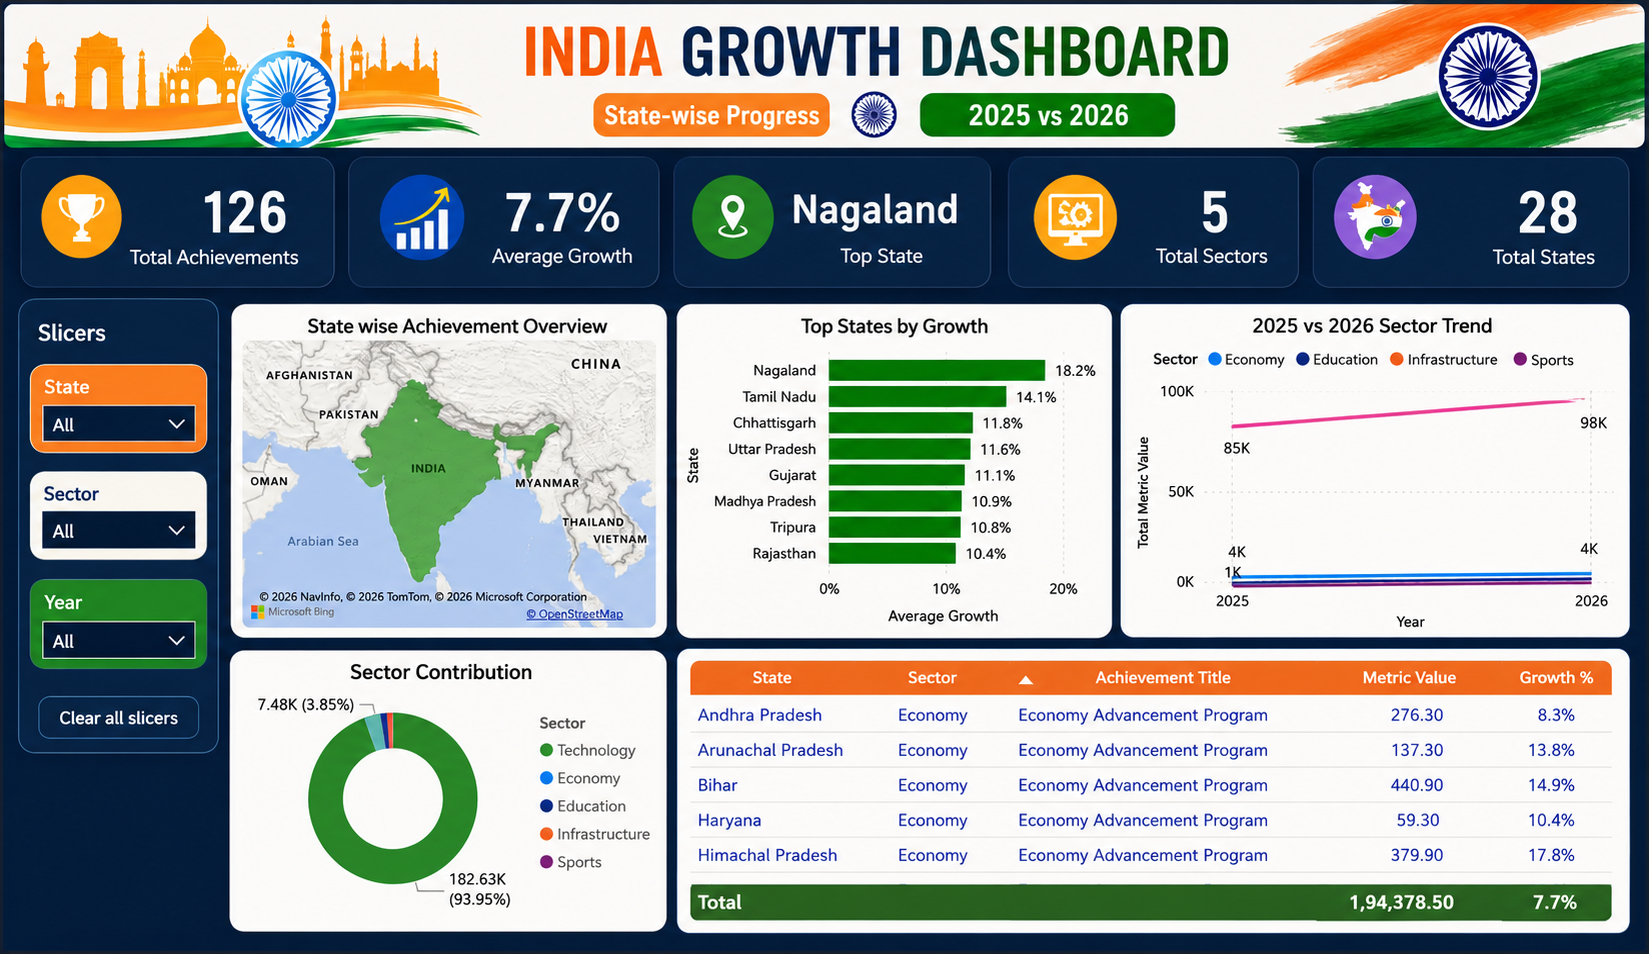

This screenshot's page, from the dashboard's own definition file:
{"tool":"powerbi","page":{"name":"Page 1","canvas":[1280,720],"ordinal":0},"visuals":[{"type":"cardVisual","fields":{"Data":["India Growth.Total Achievements"]},"box":[4.3,93.5,249.4,119.1],"z":0,"group":"g4"},{"type":"shape","title":"Slicers","box":[1.4,214,168.7,365.7],"z":0},{"type":"cardVisual","fields":{"Data":["India Growth.Top State"]},"box":[520.2,92.1,249.4,119.1],"z":1000,"group":"g6"},{"type":"cardVisual","fields":{"Data":["India Growth.Total States"]},"box":[1040.3,93.5,239.5,119.1],"z":1000},{"type":"shape","box":[22.1,119,71,63.8],"z":1000,"group":"g11"},{"type":"shape","box":[523,119,63.8,56.7],"z":1000,"group":"g13"},{"type":"shape","box":[815,120.5,63.6,56.7],"z":1000,"group":"g2"},{"type":"shape","box":[287.7,120.9,66.6,63.8],"z":1000,"group":"g3"},{"type":"shape","box":[1050.2,121.2,63.6,56.7],"z":1000,"group":"g1"},{"type":"cardVisual","fields":{"Data":["India Growth.Total Sectors"]},"box":[779.5,92.1,252.3,119.1],"z":2000},{"type":"shape","box":[0,0,1279.8,89.3],"z":3000},{"type":"shape","box":[592.6,45.1,143.6,35.8],"z":4000},{"type":"group","id":"g1","title":"Group 1","box":[1050.2,121.2,63.9,56.7],"z":4000,"group":"g8"},{"type":"shape","box":[423.8,45.4,189.9,35.4],"z":5000},{"type":"shape","box":[715.8,45,190,35.8],"z":6000},{"type":"cardVisual","fields":{"Data":["India Growth.Average Growth"]},"box":[259.4,93.5,250,120],"z":6000,"group":"g5"},{"type":"group","id":"g2","title":"Group 1","box":[815,120.5,63.9,56.7],"z":6000,"group":"g7"},{"type":"textbox","box":[408.3,45,237,35.8],"z":7000,"group":"g10"},{"type":"slicer","fields":{"Values":["India Growth.State"]},"box":[22.7,276.4,131.8,60.9],"z":7000},{"type":"textbox","title":"INDIA ","box":[393.3,0,148.1,44.5],"z":8000,"group":"g9"},{"type":"group","id":"g3","title":"Group 1","box":[287.7,120.9,68,63.8],"z":8000,"group":"g12"},{"type":"slicer","fields":{"Values":["India Growth.Sector"]},"box":[21.3,354.3,131.8,60.9],"z":8000},{"type":"slicer","fields":{"Values":["India Growth.Year"]},"box":[22.7,433.7,131.8,60.9],"z":9000},{"type":"filledMap","title":"State wise Achievement Overview","fields":{"Category":["India Growth.State"]},"box":[168.7,225.4,327.4,256.5],"z":10000},{"type":"clusteredBarChart","title":"Top 10 States by Growth","fields":{"Category":["India Growth.State"],"Y":["India Growth.Average Growth"]},"box":[508.8,225.4,372.8,256.5],"z":11000},{"type":"textbox","title":"GROWTH","box":[533.6,0,169.6,44.5],"z":12000,"group":"g9"},{"type":"lineChart","title":"2025 vs 2026 Sector Trend","fields":{"Category":["India Growth.Year"],"Y":["India Growth.Total Metric Value"],"Series":["India Growth.Sector"]},"box":[892.9,225.4,386.9,256.5],"z":12000},{"type":"textbox","title":"DASHBOARD","box":[705.1,0,220.2,44.5],"z":13000,"group":"g9"},{"type":"donutChart","title":"Sector Contribution","fields":{"Category":["India Growth.Sector"],"Y":["India Growth.Total Metric Value"]},"box":[168.7,491.8,374.2,225.4],"z":13000},{"type":"tableEx","title":"Achievement Details","fields":{"Values":["India Growth.State","India Growth.Sector","India Growth.Achievement Title","Sum(India Growth.Metric Value)","India Growth.Average Growth"]},"box":[555.6,494.6,724.3,225.4],"z":14000},{"type":"group","id":"g4","title":"Group 4","box":[4.3,93.5,249.4,119.1],"z":15000},{"type":"group","id":"g5","title":"Group 5","box":[259.4,93.5,249.4,119.1],"z":16000},{"type":"group","id":"g6","title":"Group 7","box":[520.2,92.1,249.4,119.1],"z":17000},{"type":"group","id":"g7","title":"Group 8","box":[815,120.5,63.8,56.7],"z":18000},{"type":"group","id":"g8","title":"Group 9","box":[1050.2,120.5,63.8,56.7],"z":19000},{"type":"group","id":"g9","title":"Group 10","box":[393.3,0,530.8,45],"z":20000},{"type":"group","id":"g10","title":"Group 11","box":[408.3,45,521.7,36.4],"z":21000},{"type":"image","box":[928.3,0,351.5,89.3],"z":22000},{"type":"textbox","box":[693,45,237,35.8],"z":22000,"group":"g10"},{"type":"image","box":[0,0,408.2,89.3],"z":23000},{"type":"image","box":[627.9,45.6,77.5,35.8],"z":23000,"group":"g10"},{"type":"image","box":[8.6,119,97.8,57.7],"z":25000,"group":"g11"},{"type":"image","box":[520.2,127.5,70.9,38.3],"z":25000,"group":"g13"},{"type":"image","box":[1.4,569.8,168.7,150.2],"z":25000},{"type":"group","id":"g11","title":"Group 2","box":[8.6,119,97.8,63.8],"z":25001,"group":"g4"},{"type":"image","box":[795.1,540,202.7,144.6],"z":25001},{"type":"image","box":[287.7,126.6,65.2,52.4],"z":25002,"group":"g12"},{"type":"actionButton","box":[21.3,514.5,129,49.6],"z":25002},{"type":"group","id":"g12","title":"Group 3","box":[287.7,120.9,68,63.8],"z":25003,"group":"g5"},{"type":"image","box":[1056.3,120.5,55.3,53.9],"z":25006,"group":"g14"},{"type":"image","box":[819.3,121.2,55.3,53.9],"z":25006,"group":"g7"},{"type":"group","id":"g13","title":"Group 6","box":[520.2,119,70.9,56.7],"z":25007,"group":"g6"},{"type":"group","id":"g14","title":"Group 8","box":[1056.3,120.5,55.3,53.9],"z":25010,"group":"g8"}]}

Visuals, with their boxes in screenshot pixels (x1, y1, x2, y2), scaled from the page's 1280x720 canvas onto the 1649x954 screenshot:
cardVisual - India Growth.Total Achievements: [6, 124, 327, 282]
"Slicers" shape: [2, 284, 219, 768]
cardVisual - India Growth.Top State: [670, 122, 991, 280]
cardVisual - India Growth.Total States: [1340, 124, 1648, 282]
shape: [28, 158, 120, 242]
shape: [674, 158, 756, 233]
shape: [1050, 160, 1132, 235]
shape: [371, 160, 456, 245]
shape: [1353, 161, 1435, 236]
cardVisual - India Growth.Total Sectors: [1004, 122, 1329, 280]
shape: [0, 0, 1648, 118]
shape: [763, 60, 948, 107]
"Group 1" group: [1353, 161, 1435, 236]
shape: [546, 60, 791, 107]
shape: [922, 60, 1167, 107]
cardVisual - India Growth.Average Growth: [334, 124, 656, 283]
"Group 1" group: [1050, 160, 1132, 235]
textbox: [526, 60, 831, 107]
slicer - India Growth.State: [29, 366, 199, 447]
"INDIA " textbox: [507, 0, 697, 59]
"Group 1" group: [371, 160, 458, 245]
slicer - India Growth.Sector: [27, 469, 197, 550]
slicer - India Growth.Year: [29, 575, 199, 655]
"State wise Achievement Overview" filledMap: [217, 299, 639, 639]
"Top 10 States by Growth" clusteredBarChart: [655, 299, 1136, 639]
"GROWTH" textbox: [687, 0, 906, 59]
"2025 vs 2026 Sector Trend" lineChart: [1150, 299, 1648, 639]
"DASHBOARD" textbox: [908, 0, 1192, 59]
"Sector Contribution" donutChart: [217, 652, 699, 950]
"Achievement Details" tableEx: [716, 655, 1648, 953]
"Group 4" group: [6, 124, 327, 282]
"Group 5" group: [334, 124, 655, 282]
"Group 7" group: [670, 122, 991, 280]
"Group 8" group: [1050, 160, 1132, 235]
"Group 9" group: [1353, 160, 1435, 235]
"Group 10" group: [507, 0, 1191, 60]
"Group 11" group: [526, 60, 1198, 108]
image: [1196, 0, 1648, 118]
textbox: [893, 60, 1198, 107]
image: [0, 0, 526, 118]
image: [809, 60, 909, 108]
image: [11, 158, 137, 234]
image: [670, 169, 762, 220]
image: [2, 755, 219, 953]
"Group 2" group: [11, 158, 137, 242]
image: [1024, 716, 1285, 907]
image: [371, 168, 455, 237]
actionButton: [27, 682, 194, 747]
"Group 3" group: [371, 160, 458, 245]
image: [1361, 160, 1432, 231]
image: [1055, 161, 1127, 232]
"Group 6" group: [670, 158, 762, 233]
"Group 8" group: [1361, 160, 1432, 231]
